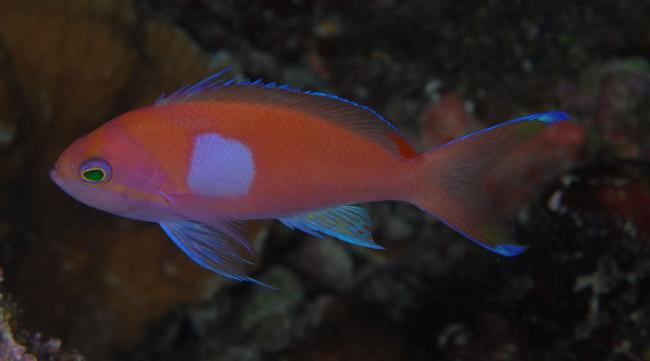fish: (50, 67, 570, 289)
